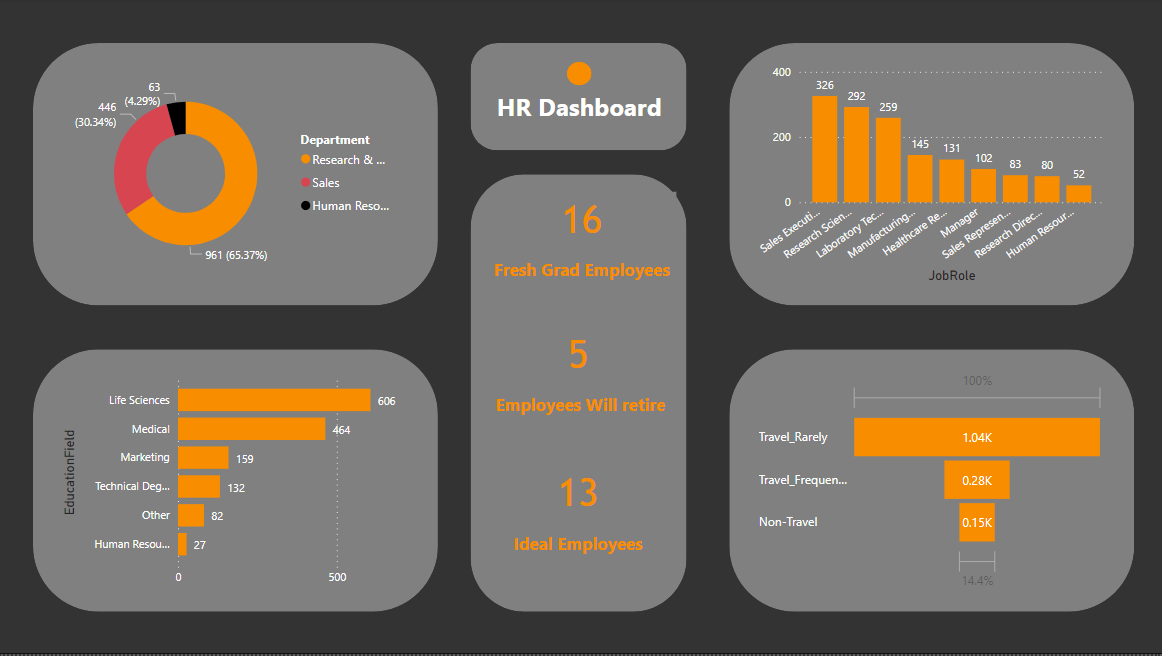

The dashboard page shown, as its layout file describes it:
{"tool":"powerbi","page":{"name":"Page 1","canvas":[1280,720],"ordinal":0},"visuals":[{"type":"shape","box":[102.2,16.1,217.9,102.2],"z":1000},{"type":"shape","box":[384.7,16.1,220.6,102.2],"z":2000},{"type":"shape","box":[676.6,17.5,220.6,102.2],"z":3000},{"type":"shape","box":[961.8,17.5,220.6,102.2],"z":4000},{"type":"shape","box":[35,149.3,570.3,263.6],"z":5000},{"type":"shape","box":[676.6,437.2,517.9,263.6],"z":7000},{"type":"shape","box":[679.3,149.3,217.9,263.6],"z":8000},{"type":"shape","box":[961.8,149.3,232.7,263.6],"z":9000},{"type":"textbox","box":[103.6,64.6,217.9,45.7],"z":10000},{"type":"shape","box":[197.7,24.2,28.2,28.2],"z":11000},{"type":"textbox","box":[394.1,21.5,203.1,53.8],"z":12000},{"type":"textbox","box":[426.4,65.9,135.9,47.1],"z":13000},{"type":"textbox","box":[686,24.2,203.1,90.1],"z":14000},{"type":"textbox","box":[971.2,24.2,203.1,90.1],"z":15000},{"type":"textbox","box":[988.7,178.9,180.2,100.9],"z":16000},{"type":"textbox","box":[1015.6,282.5,125.1,110.3],"z":17000},{"type":"clusteredBarChart","fields":{"Category":["HR Analytics Data.NumCompaniesWorked"],"Y":["Sum(HR Analytics Data.NumCompaniesWorked)"]},"box":[55.1,169.5,528.6,226],"z":18000},{"type":"donutChart","fields":{"Category":["HR Analytics Data.MaritalStatus"],"Y":["CountNonNull(HR Analytics Data.MaritalStatus)"]},"box":[710.2,449.3,449.3,239.4],"z":19000},{"type":"textbox","box":[691.4,178.9,180.2,88.8],"z":21000},{"type":"textbox","box":[718.3,282.5,139.9,102.2],"z":22000},{"type":"shape","box":[35,437.2,570.3,263.6],"z":23000},{"type":"lineClusteredColumnComboChart","fields":{"Category":["HR Analytics Data.YearsSinceLastPromotion"],"Y":["Sum(HR Analytics Data.YearsInCurrentRole)"],"Y2":["Sum(HR Analytics Data.YearsSinceLastPromotion)"]},"box":[83.4,461.4,500.4,215.2],"z":24001}]}

Visuals, with their boxes in screenshot pixels (x1, y1, x2, y2), scaled from the page's 1280x720 canvas onto the 1162x656 screenshot:
shape: [x1=93, y1=15, x2=291, y2=108]
shape: [x1=349, y1=15, x2=549, y2=108]
shape: [x1=614, y1=16, x2=814, y2=109]
shape: [x1=873, y1=16, x2=1073, y2=109]
shape: [x1=32, y1=136, x2=549, y2=376]
shape: [x1=614, y1=398, x2=1084, y2=639]
shape: [x1=617, y1=136, x2=814, y2=376]
shape: [x1=873, y1=136, x2=1084, y2=376]
textbox: [x1=94, y1=59, x2=292, y2=100]
shape: [x1=179, y1=22, x2=205, y2=48]
textbox: [x1=358, y1=20, x2=542, y2=69]
textbox: [x1=387, y1=60, x2=510, y2=103]
textbox: [x1=623, y1=22, x2=807, y2=104]
textbox: [x1=882, y1=22, x2=1066, y2=104]
textbox: [x1=898, y1=163, x2=1061, y2=255]
textbox: [x1=922, y1=257, x2=1036, y2=358]
clusteredBarChart - HR Analytics Data.NumCompaniesWorked x Sum(HR Analytics Data.NumCompaniesWorked): [x1=50, y1=154, x2=530, y2=360]
donutChart - HR Analytics Data.MaritalStatus x CountNonNull(HR Analytics Data.MaritalStatus): [x1=645, y1=409, x2=1053, y2=627]
textbox: [x1=628, y1=163, x2=791, y2=244]
textbox: [x1=652, y1=257, x2=779, y2=351]
shape: [x1=32, y1=398, x2=549, y2=639]
lineClusteredColumnComboChart - HR Analytics Data.YearsSinceLastPromotion x Sum(HR Analytics Data.YearsInCurrentRole): [x1=76, y1=420, x2=530, y2=616]
